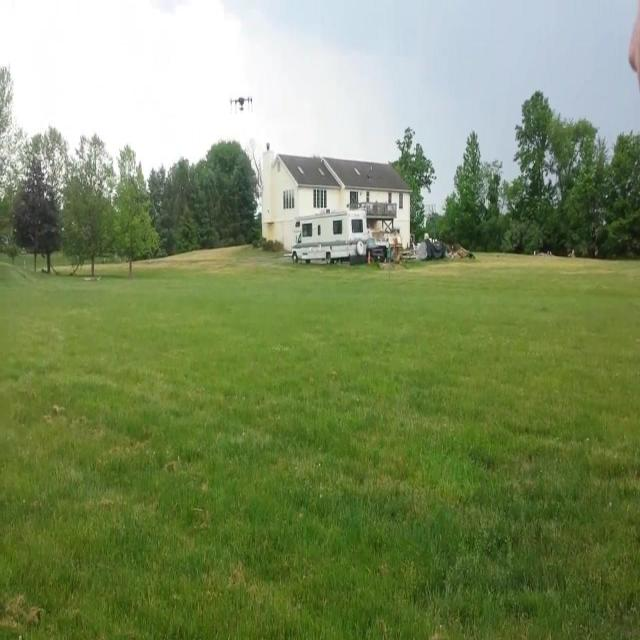UAV: (230, 97, 252, 111)
